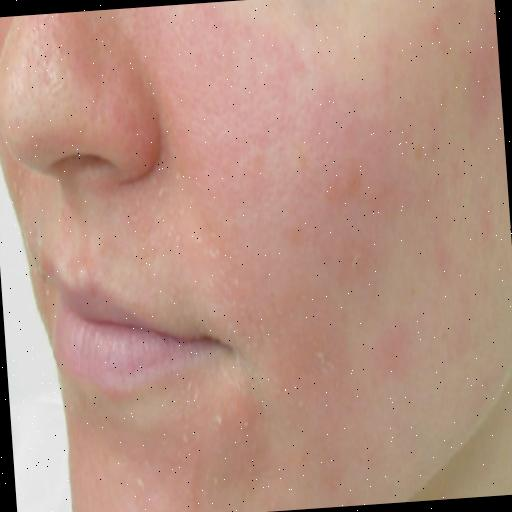Skin_Lesion: (318, 158, 376, 226), (305, 330, 346, 398), (376, 318, 414, 386), (464, 191, 496, 249), (430, 234, 458, 285), (208, 410, 254, 438), (427, 13, 456, 54), (204, 238, 232, 272), (38, 247, 57, 287)
